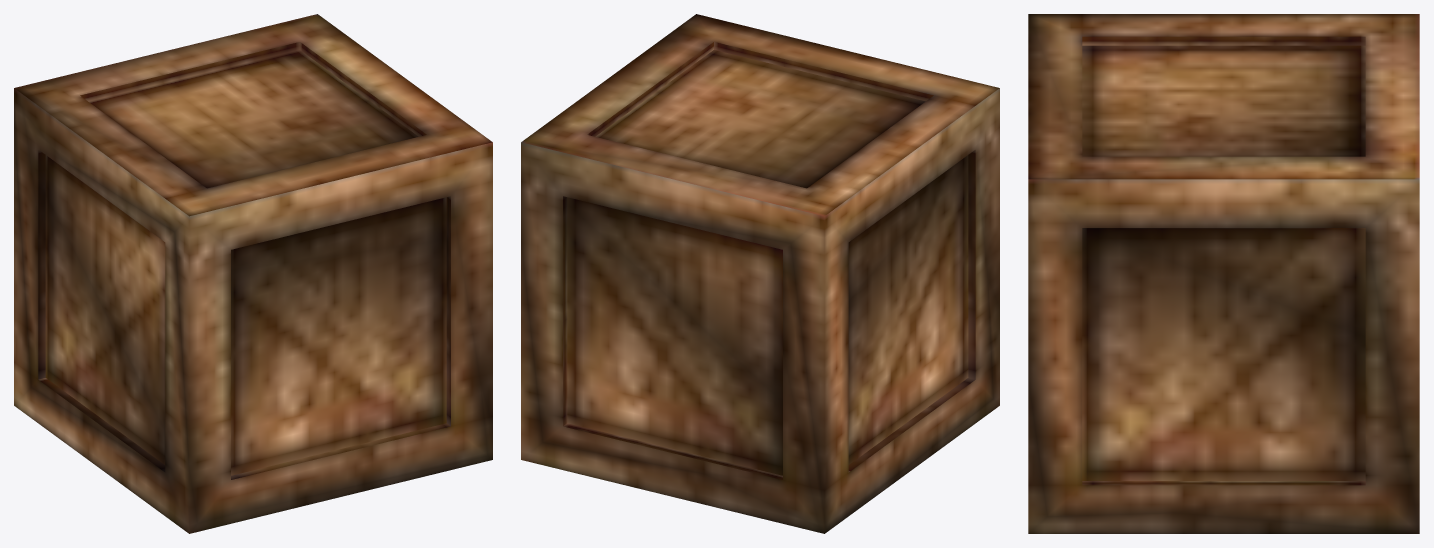
Rendered from psx_industrial_pack_crate_wood.glb.
The picture shows the model from 3 angles, left to right: view 1: azimuth 30°, elevation 25°; view 2: azimuth 150°, elevation 25°; view 3: azimuth 270°, elevation 25°; orthographic projection. The views are drawn at different scales.
Visible parts, largest first — view 1: CrateWood; view 2: CrateWood; view 3: CrateWood.
Boxes of the visible parts, box(x1,y1,x2,y2) form: CrateWood: box(14, 14, 492, 533); CrateWood: box(521, 14, 999, 533); CrateWood: box(1028, 14, 1419, 533).
Size of the model in its own units: 0.6 by 0.6 by 0.6.
Materials: 1 (1 with a texture image).
